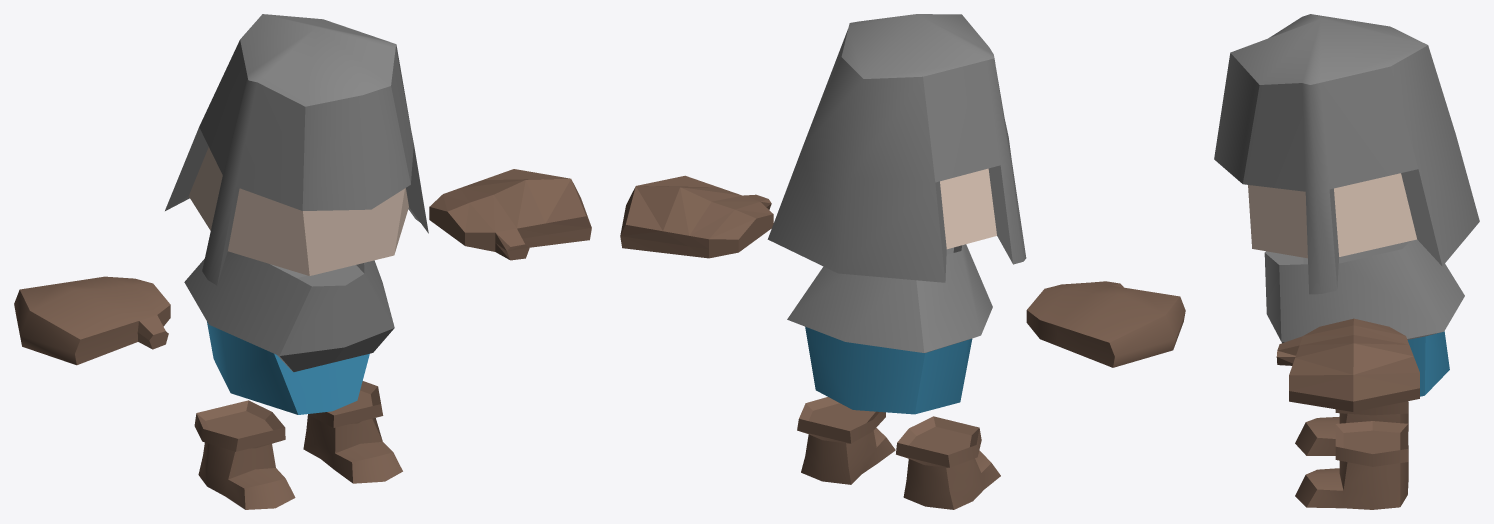
Rendered from tala.fbx.
3 renders of one model, left to right at view 1: azimuth 30°, elevation 25°; view 2: azimuth 150°, elevation 25°; view 3: azimuth 270°, elevation 25°, orthographic. The views are drawn at different scales.
Parts seen in each view (by area): view 1: copy1, copy2, copy4, copy3, copy6, copy5; view 2: copy1, copy2, copy4, copy3, copy6, copy5; view 3: copy1, copy2, copy3, copy5, copy6.
Part boxes in pixels (x1,y1,x2,y2): copy1: (165,14,428,285); copy2: (184,251,394,414); copy4: (14,276,170,365); copy3: (429,169,591,260); copy6: (194,400,295,509); copy5: (303,381,402,483); copy1: (767,14,1026,282); copy2: (787,244,992,414); copy4: (1026,281,1185,367); copy3: (620,175,773,258); copy6: (896,416,1000,509); copy5: (797,397,895,484); copy1: (1214,14,1479,294); copy2: (1264,239,1464,396); copy3: (1276,318,1419,411); copy5: (1295,421,1408,509); copy6: (1295,401,1408,455).
Size of the model in its own units: 22.02 by 17.18 by 9.18.
